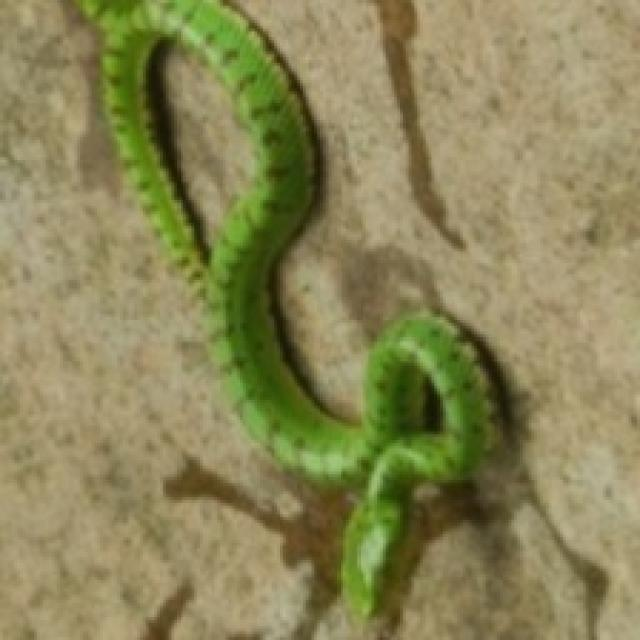philippine pitviper: (86, 0, 486, 611), (146, 40, 260, 251)
